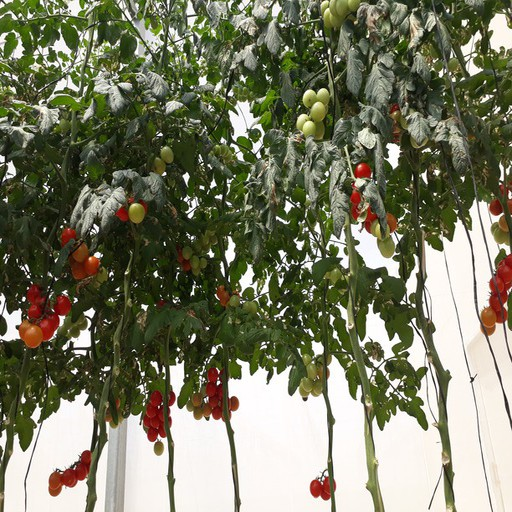green tomato bunch: (112, 143, 170, 222), (175, 229, 219, 274), (294, 89, 330, 140), (298, 350, 333, 401), (427, 42, 462, 91), (320, 1, 363, 26), (322, 263, 353, 294)
mixed tomato bunch: (350, 161, 397, 258), (489, 181, 512, 246), (215, 286, 257, 320)
red tomato bunch: (18, 282, 72, 347), (476, 253, 512, 336), (187, 369, 239, 422), (47, 450, 94, 498), (59, 229, 101, 278), (141, 388, 174, 440)
